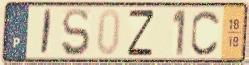0: (95, 7, 123, 58)
1: (171, 8, 188, 59)
C: (189, 9, 222, 58)
I: (38, 7, 54, 57)
S: (60, 6, 92, 58)
Z: (126, 8, 156, 58)
